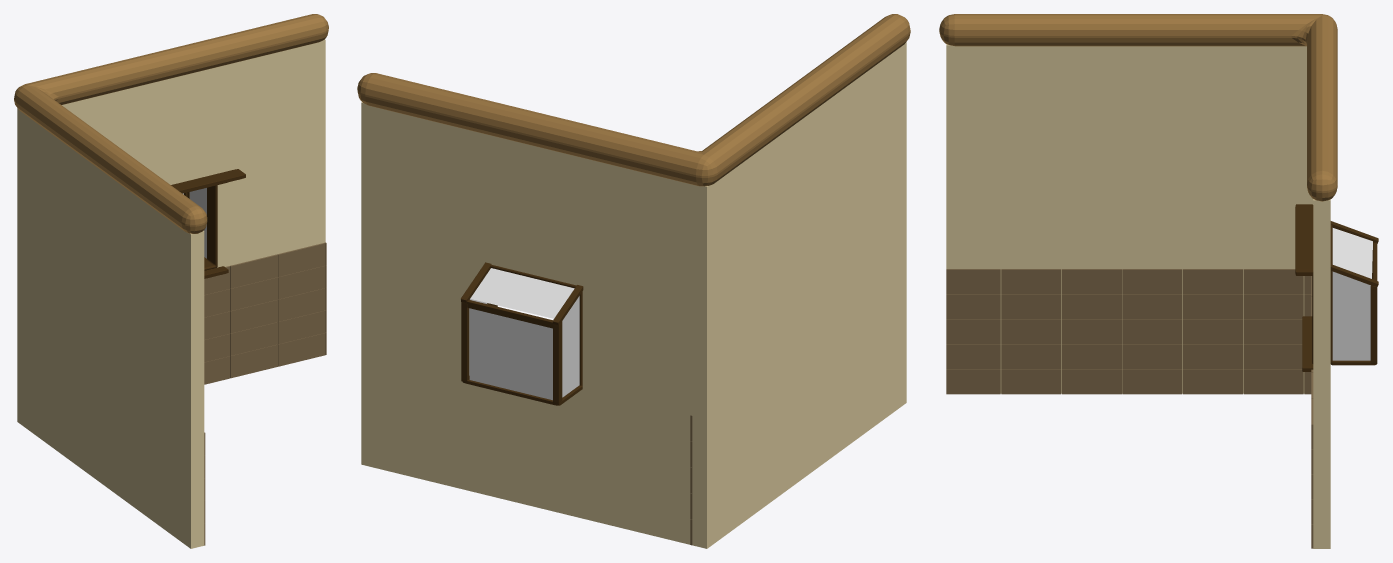
File: CornerWallwithWindow03.fbx
The picture shows the model from 3 angles, left to right: view 1: azimuth 30°, elevation 25°; view 2: azimuth 150°, elevation 25°; view 3: azimuth 270°, elevation 25°; orthographic projection. The views are drawn at different scales.
Parts seen in each view (by area): view 1: CornerWall-Window01; view 2: CornerWall-Window01; view 3: CornerWall-Window01.
Boxes of the visible parts, x1,y1,x2,y2 form: CornerWall-Window01: (14, 14, 328, 548); CornerWall-Window01: (357, 14, 910, 548); CornerWall-Window01: (939, 14, 1378, 548).
Bounding box in the file's own units: 207 × 215 × 229.
